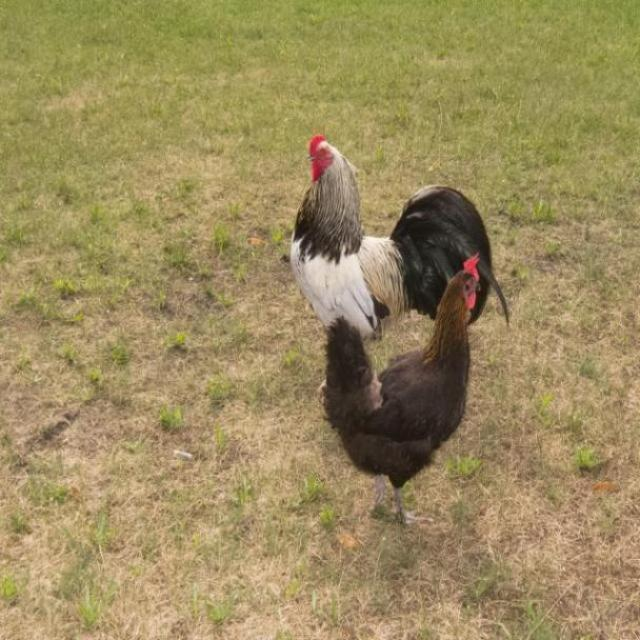Chicken: (318, 253, 482, 471), (282, 131, 417, 333)
